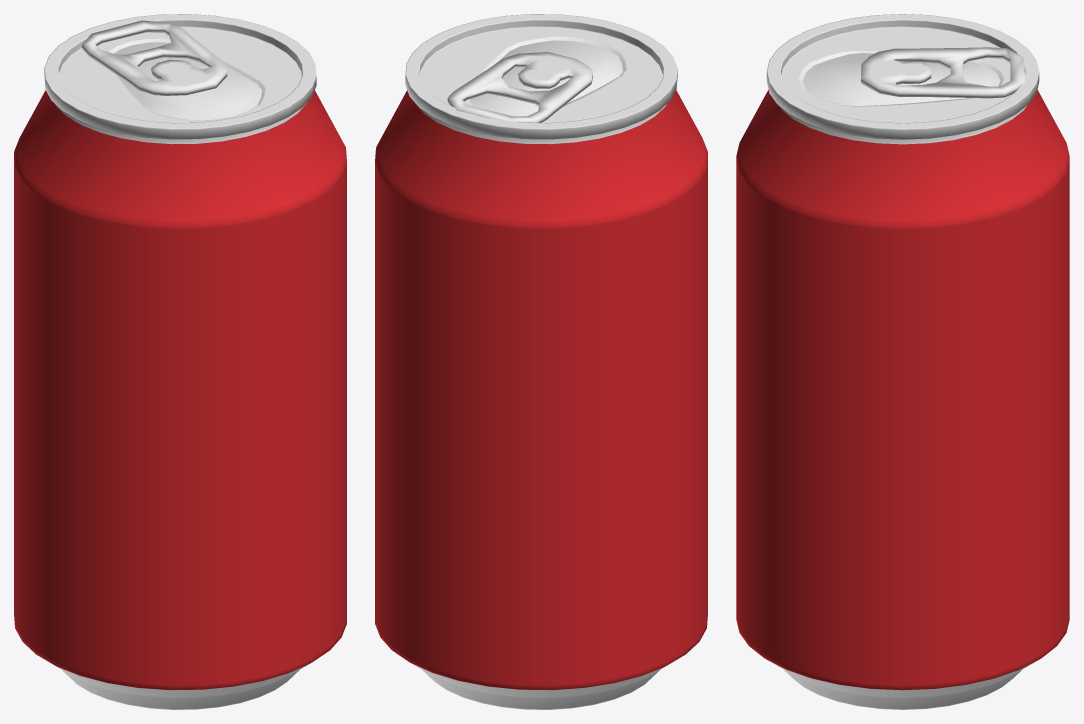
The model's file is can.glb.
3 views of the same model, side by side, from view 1: azimuth 30°, elevation 25°; view 2: azimuth 150°, elevation 25°; view 3: azimuth 270°, elevation 25° (orthographic).
Visible parts, largest first — view 1: Cylinder, Plane; view 2: Cylinder, Plane; view 3: Cylinder, Plane.
Boxes of the visible parts, bbox=[...] form: Cylinder: bbox=[14, 14, 346, 709]; Plane: bbox=[82, 20, 227, 95]; Cylinder: bbox=[375, 14, 707, 709]; Plane: bbox=[447, 52, 592, 122]; Cylinder: bbox=[736, 14, 1069, 709]; Plane: bbox=[861, 47, 1025, 98].
Bounding box in the file's own units: 0.084 × 0.1636 × 0.084.
